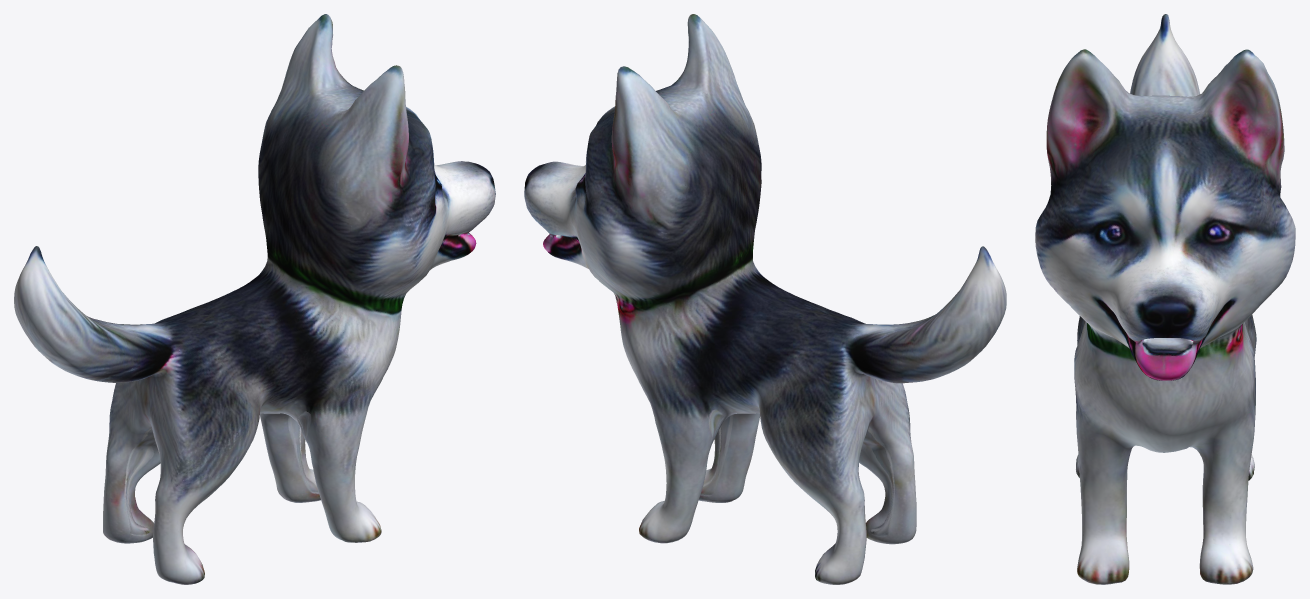
Rendered from farmDog.glb.
3 views of the same model, side by side, from view 1: azimuth 30°, elevation 25°; view 2: azimuth 150°, elevation 25°; view 3: azimuth 270°, elevation 25° (orthographic). The views are drawn at different scales.
Parts seen in each view (by area): view 1: mesh; view 2: mesh; view 3: mesh.
Part boxes in pixels (bbox=[...]): mesh: bbox=[14, 14, 495, 584]; mesh: bbox=[524, 14, 1006, 584]; mesh: bbox=[1035, 14, 1295, 584].
Bounding box in the file's own units: 0.9993 × 0.9527 × 0.4143.
1 material, 1 textured.
